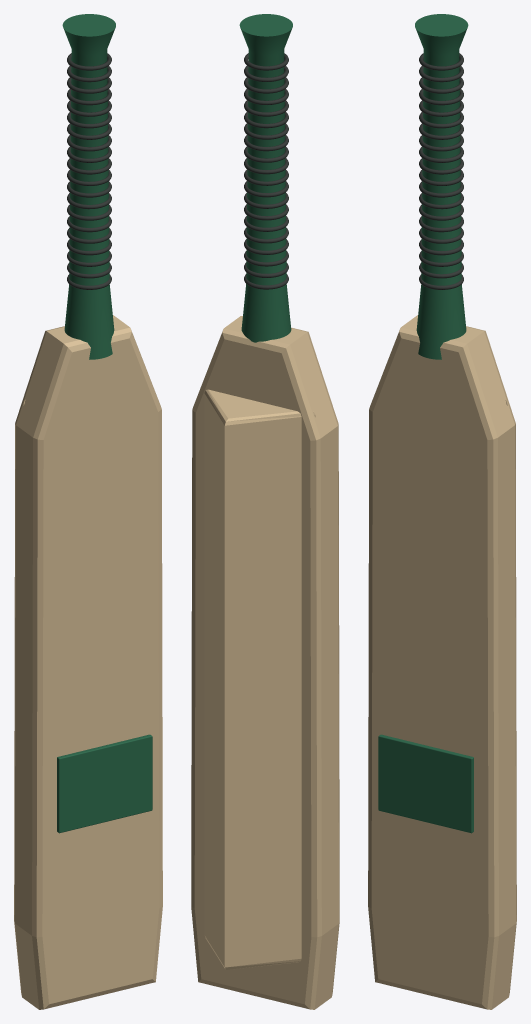
File: cricket-ground-and-pavilion-cricket-bat-9d4925c4__31313.glb
3 renders of one model, left to right at view 1: azimuth 30°, elevation 25°; view 2: azimuth 150°, elevation 25°; view 3: azimuth 330°, elevation 25°, orthographic.
Parts seen in each view (by area): view 1: cricket-bat; view 2: cricket-bat; view 3: cricket-bat.
Boxes of the visible parts, x1,y1,x2,y2 form: cricket-bat: (14, 14, 162, 1009); cricket-bat: (191, 14, 339, 1009); cricket-bat: (368, 14, 516, 1009).
Bounding box in the file's own units: 0.118 × 0.836 × 0.0915.
